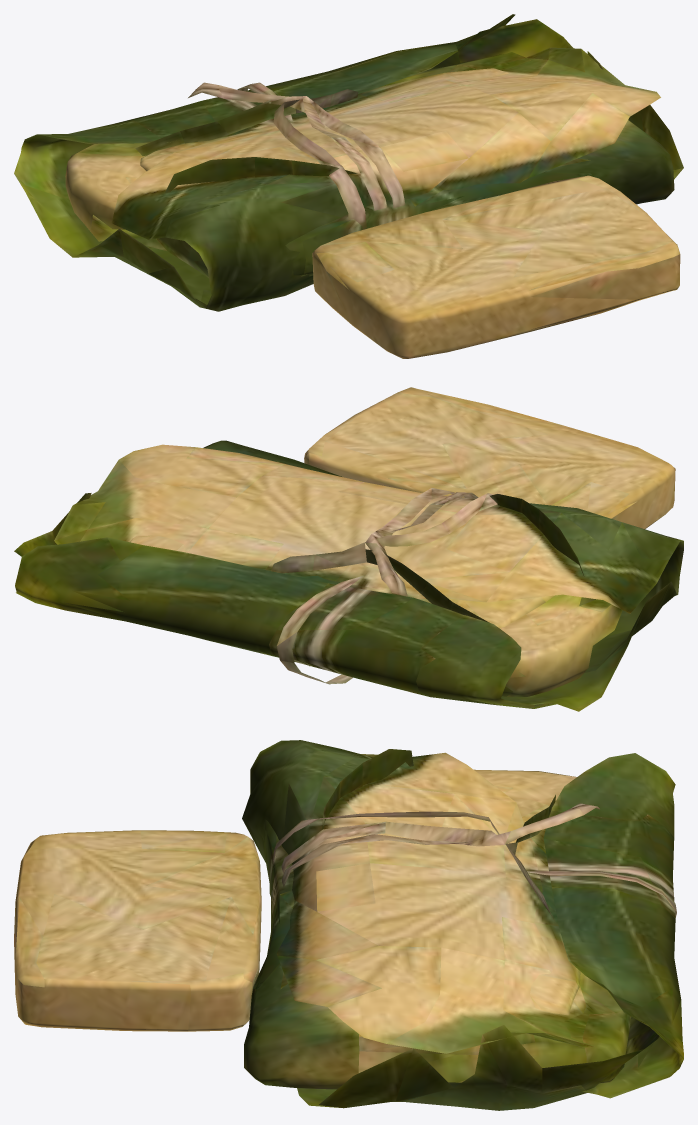
Rendered from lembas_wafer.glb.
3 renders of one model, top to bottom at view 1: azimuth 30°, elevation 25°; view 2: azimuth 150°, elevation 25°; view 3: azimuth 270°, elevation 25°, orthographic. The views are drawn at different scales.
Parts seen in each view (by area): view 1: lembas_wafer; view 2: lembas_wafer; view 3: lembas_wafer.
Boxes of the visible parts, x1=… form: lembas_wafer: x1=14, y1=14, x2=683, y2=358; lembas_wafer: x1=14, y1=387, x2=683, y2=711; lembas_wafer: x1=14, y1=740, x2=683, y2=1110.
Bounding box in the file's own units: 0.28 × 0.0685 × 0.2636.
Materials: 1 (1 with a texture image).
